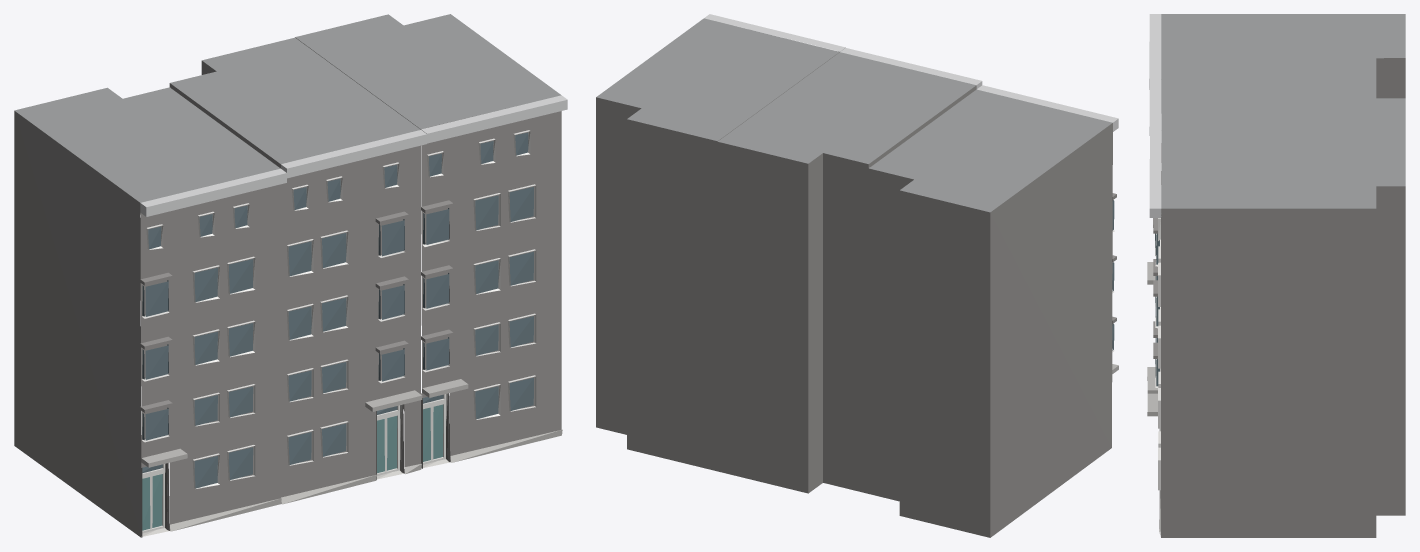
The model's file is chunk-face-burger-45-131-r2.lod2.glb.
3 views of the same model, side by side, from view 1: azimuth 30°, elevation 25°; view 2: azimuth 150°, elevation 25°; view 3: azimuth 270°, elevation 25° (orthographic). The views are drawn at different scales.
Parts seen in each view (by area): view 1: lod2; view 2: lod2; view 3: lod2.
Part boxes in pixels (<box>): lod2: <box>14,14,567,537</box>; lod2: <box>596,14,1118,537</box>; lod2: <box>1147,14,1405,537</box>.
Bounding box in the file's own units: 20.25 × 15.62 × 11.11.
